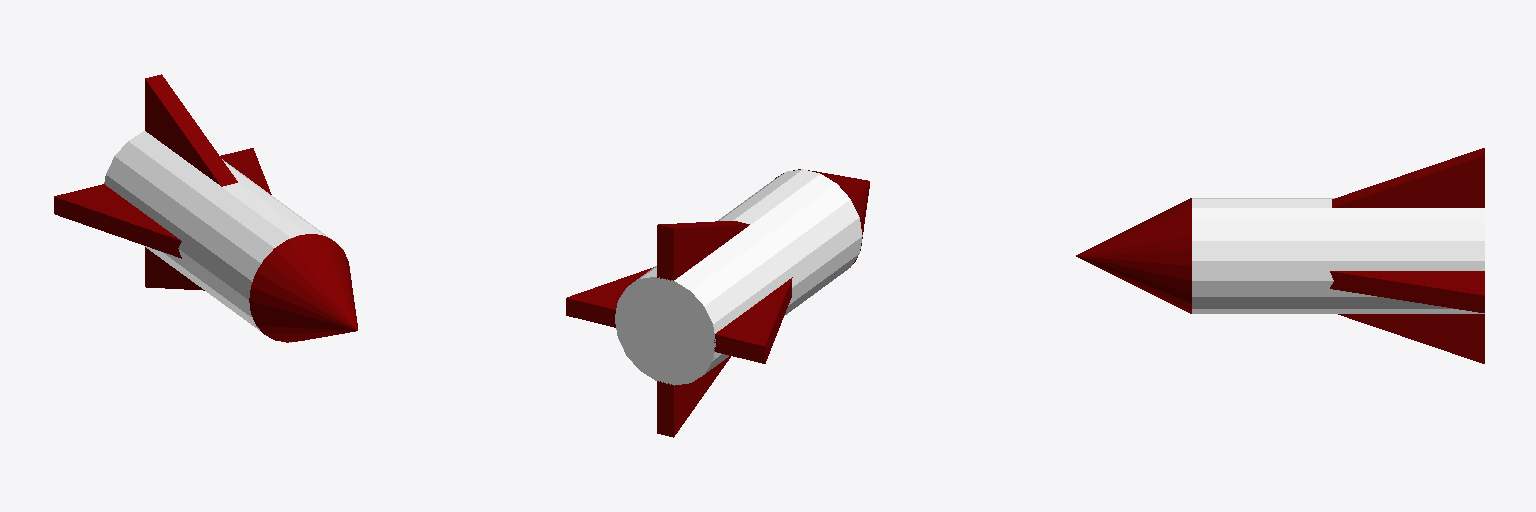
The model's file is rocket_opt_2.obj.
3 views of the same model, side by side, from view 1: azimuth 30°, elevation 25°; view 2: azimuth 150°, elevation 25°; view 3: azimuth 270°, elevation 25° (orthographic).
Parts seen in each view (by area): view 1: Body, Cone001, Prism001, Prism004, Prism003, Prism002; view 2: Body, Prism001, Prism004, Prism003, Prism002, Cone001; view 3: Body, Cone001, Prism004, Prism002, Prism003.
Boxes of the visible parts, box(x1,y1,x2,y2) form: Body: box(104, 131, 347, 342); Cone001: box(249, 234, 357, 342); Prism001: box(54, 184, 181, 258); Prism004: box(145, 74, 237, 186); Prism003: box(145, 247, 204, 290); Prism002: box(220, 148, 271, 194); Body: box(615, 169, 862, 385); Prism001: box(714, 277, 792, 363); Prism004: box(657, 221, 749, 280); Prism003: box(657, 356, 730, 437); Prism002: box(566, 267, 653, 327); Cone001: box(775, 169, 869, 263); Body: box(1192, 198, 1484, 313); Cone001: box(1076, 198, 1191, 313); Prism004: box(1332, 148, 1484, 207); Prism002: box(1330, 271, 1484, 312); Prism003: box(1338, 314, 1484, 363).
Bounding box in the file's own units: 11.8 × 11.8 × 21.